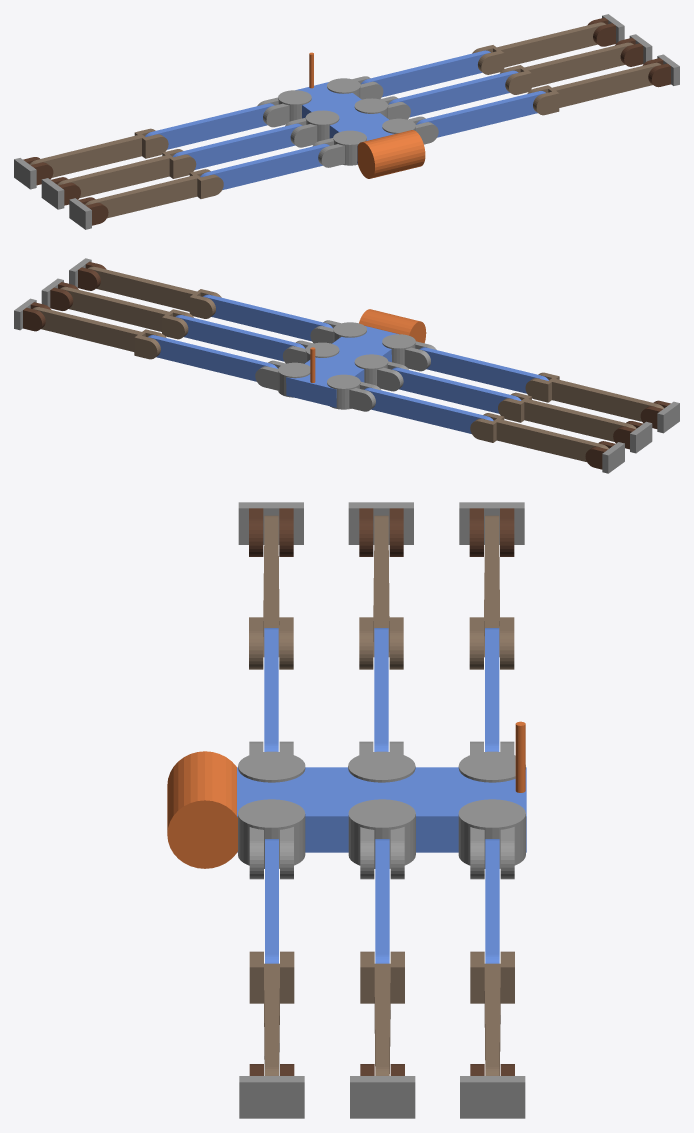
Rendered from 2DWalker_v0_3.gltf.
The picture shows the model from 3 angles, top to bottom: view 1: azimuth 30°, elevation 25°; view 2: azimuth 150°, elevation 25°; view 3: azimuth 270°, elevation 25°; orthographic projection. The views are drawn at different scales.
Parts seen in each view (by area): view 1: Chassis, LowerLegLeft1, LowerLegRight1, LowerLegRight3, LowerLegLeft3, LowerLegRight2, LowerLegLeft2, UpperLegRight1, UpperLegLeft1, UpperLegRight2, UpperLegRight3, UpperLegLeft2 (+13 smaller); view 2: Chassis, LowerLegLeft3, LowerLegRight3, LowerLegRight1, LowerLegLeft2, LowerLegRight2, LowerLegLeft1, UpperLegLeft1, UpperLegLeft3, UpperLegRight1, UpperLegLeft2, UpperLegRight3 (+13 smaller); view 3: Chassis, ShoulderLeft2, ShoulderLeft3, ShoulderLeft1, LowerLegRight3, LowerLegRight2, LowerLegRight1, LowerLegLeft1, LowerLegLeft2, LowerLegLeft3, FootLeft1, FootLeft2 (+13 smaller).
Boxes of the visible parts, x1,y1,x2,y2 form: Chassis: (295, 52, 425, 178); LowerLegLeft1: (527, 62, 661, 115); LowerLegRight1: (85, 169, 223, 218); LowerLegRight3: (30, 128, 168, 177); LowerLegLeft3: (472, 22, 606, 74); LowerLegRight2: (57, 149, 196, 198); LowerLegLeft2: (500, 42, 633, 94); UpperLegRight1: (200, 143, 329, 189); UpperLegLeft1: (416, 91, 545, 137); UpperLegRight2: (172, 123, 302, 169); UpperLegRight3: (145, 103, 274, 149); UpperLegLeft2: (388, 70, 518, 117); Chassis: (286, 309, 426, 407); LowerLegLeft3: (33, 307, 166, 359); LowerLegRight3: (470, 413, 608, 461); LowerLegRight1: (525, 372, 663, 421); LowerLegLeft2: (60, 286, 193, 339); LowerLegRight2: (498, 392, 636, 441); LowerLegLeft1: (88, 266, 221, 318); UpperLegLeft1: (203, 294, 332, 341); UpperLegLeft3: (148, 335, 277, 381); UpperLegRight1: (419, 347, 548, 393); UpperLegLeft2: (175, 315, 305, 361); UpperLegRight3: (364, 387, 493, 433); Chassis: (167, 721, 526, 868); ShoulderLeft2: (348, 799, 415, 879); ShoulderLeft3: (458, 799, 525, 879); ShoulderLeft1: (238, 799, 305, 879); LowerLegRight3: (469, 515, 514, 669); LowerLegRight2: (359, 515, 403, 669); LowerLegRight1: (249, 515, 293, 669); LowerLegLeft1: (249, 951, 294, 1075); LowerLegLeft2: (360, 951, 404, 1075); LowerLegLeft3: (470, 951, 514, 1075); FootLeft1: (239, 1064, 304, 1118); FootLeft2: (350, 1064, 415, 1118).
Size of the model in its own units: 23.63 by 2.29 by 6.19.
